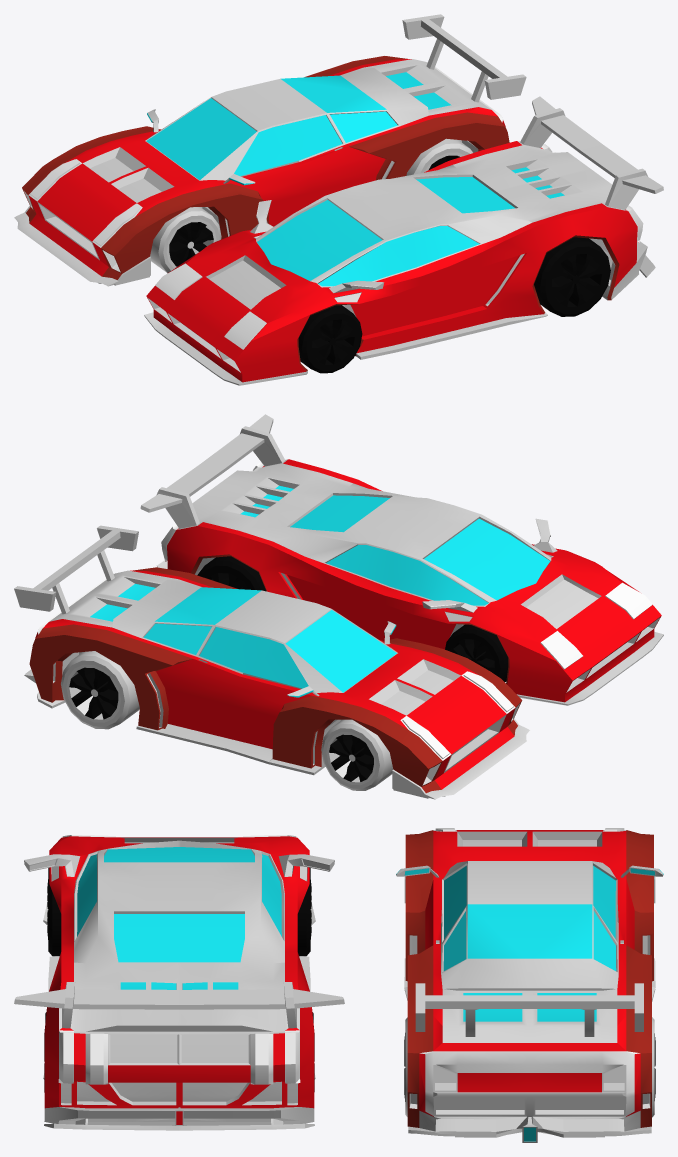
The picture shows the model from 3 angles, top to bottom: view 1: azimuth 30°, elevation 25°; view 2: azimuth 150°, elevation 25°; view 3: azimuth 270°, elevation 25°; orthographic projection. The views are drawn at different scales.
Parts seen in each view (by area): view 1: Supercar, Sport Car; view 2: Sport Car, Supercar; view 3: Supercar, Sport Car.
Part boxes in pixels (bbox=[...]): Supercar: bbox=[144, 96, 663, 385]; Sport Car: bbox=[14, 14, 526, 286]; Sport Car: bbox=[14, 525, 529, 799]; Supercar: bbox=[140, 414, 663, 705]; Supercar: bbox=[14, 835, 344, 1130]; Sport Car: bbox=[396, 828, 663, 1142].
Size of the model in its own units: 316 by 86.27 by 310.
